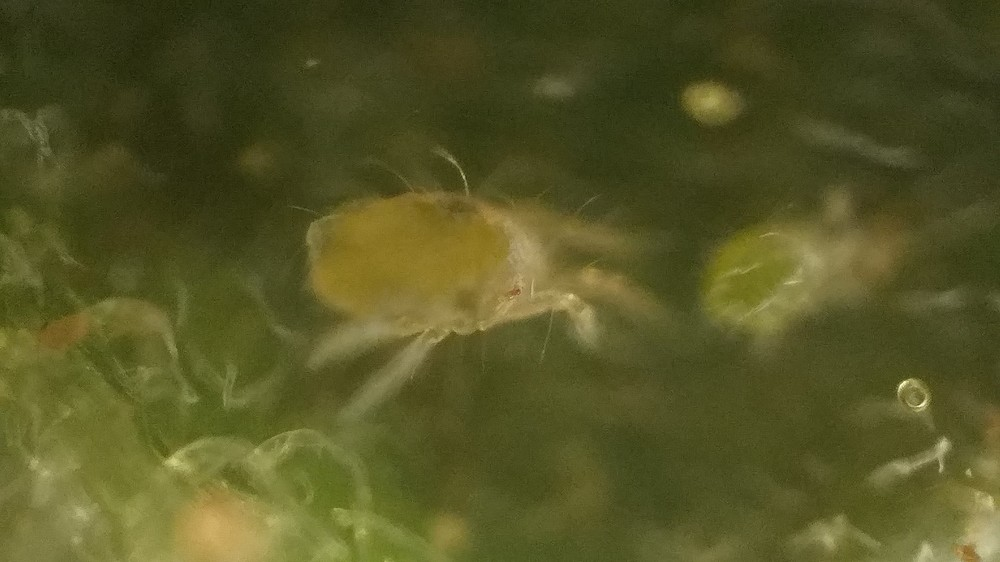Aracnido Rojo: (266, 126, 727, 427)
